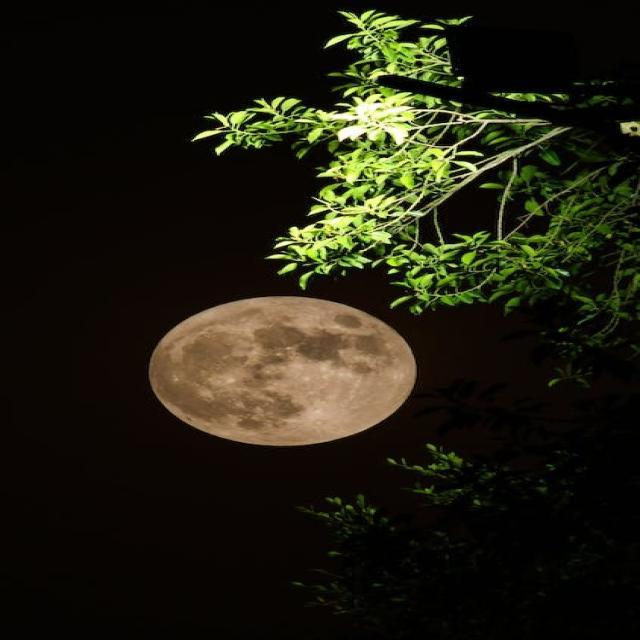moon: (122, 284, 438, 458)
